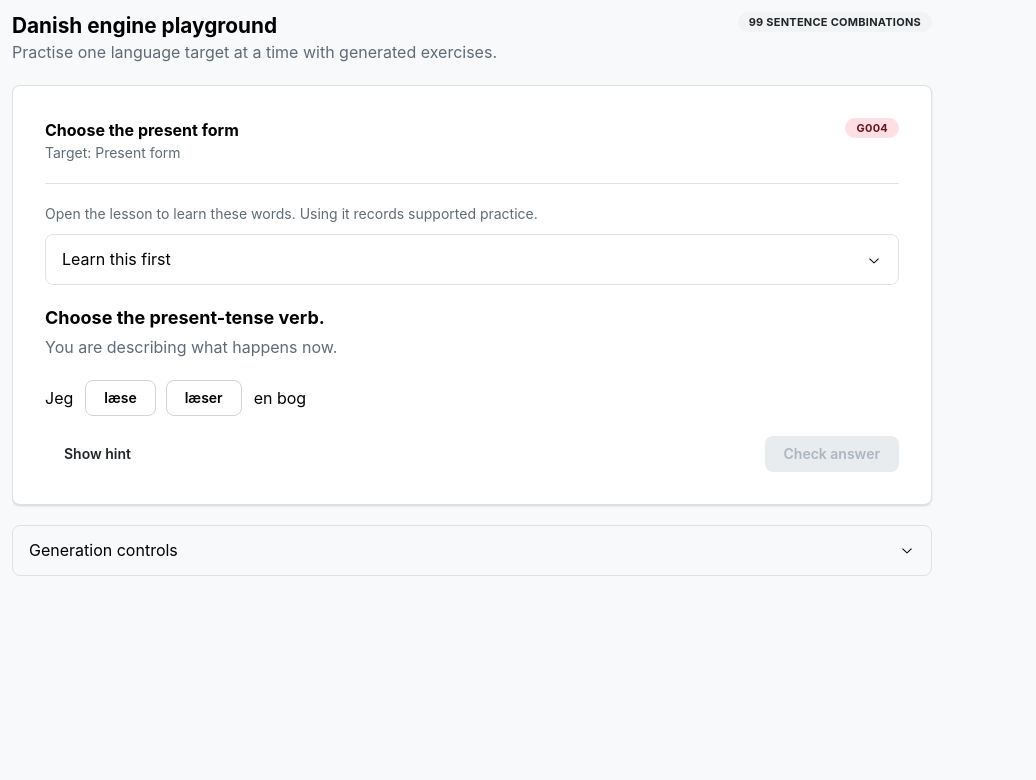
Scenario: Playground › establishes the session before protected reads and offers teaching before the prompt
expect the text "Learn this first" is shown: met, box top-left (62, 249), bottom-right (171, 269)
expect the text "Using it records supported practice" is shown: met, box top-left (45, 205), bottom-right (538, 222)
Step 1. Click the button "Learn this first" → (116, 259), box top-left (46, 235), bottom-right (898, 284)
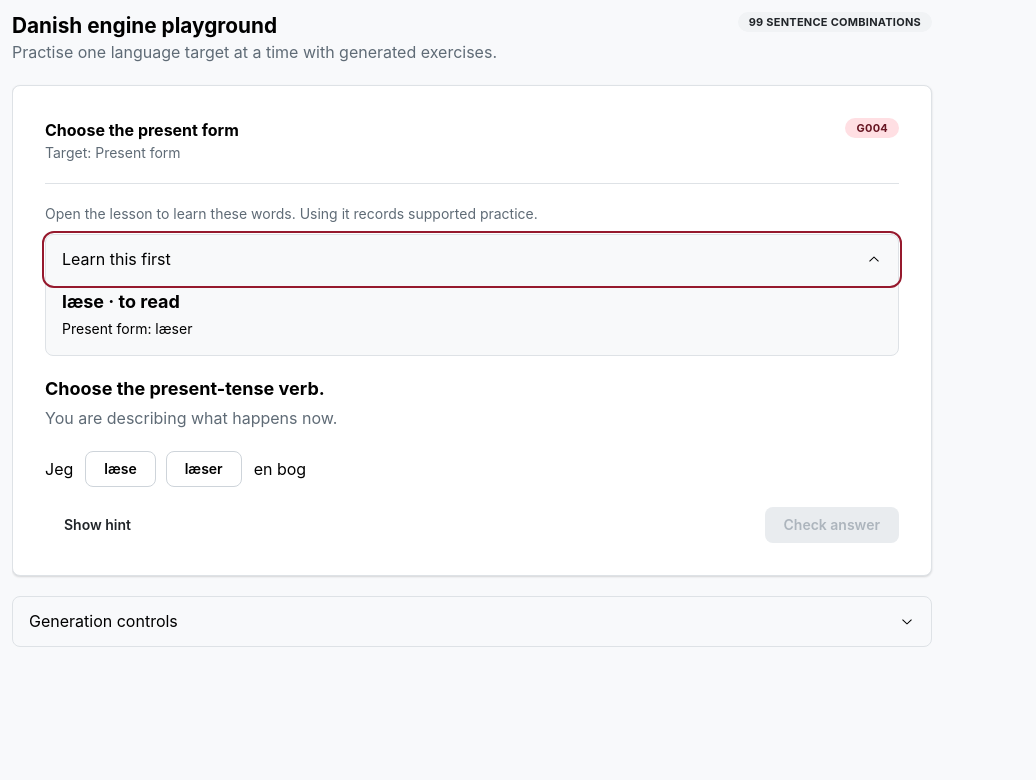
expect the heading "Choose the present-tense verb." is shown: met, box top-left (45, 378), bottom-right (325, 399)
expect the heading "læse · to read" is shown: met, box top-left (62, 291), bottom-right (180, 312)
